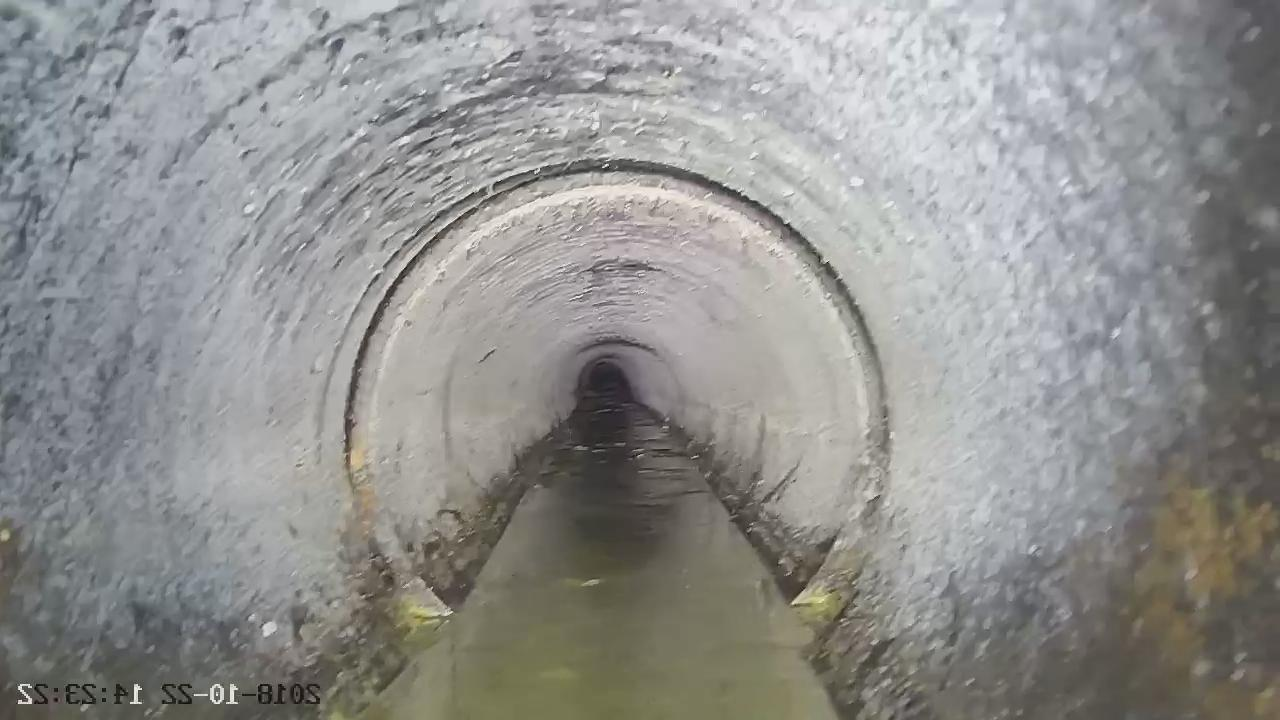CKTJ: (333, 152, 905, 625)
